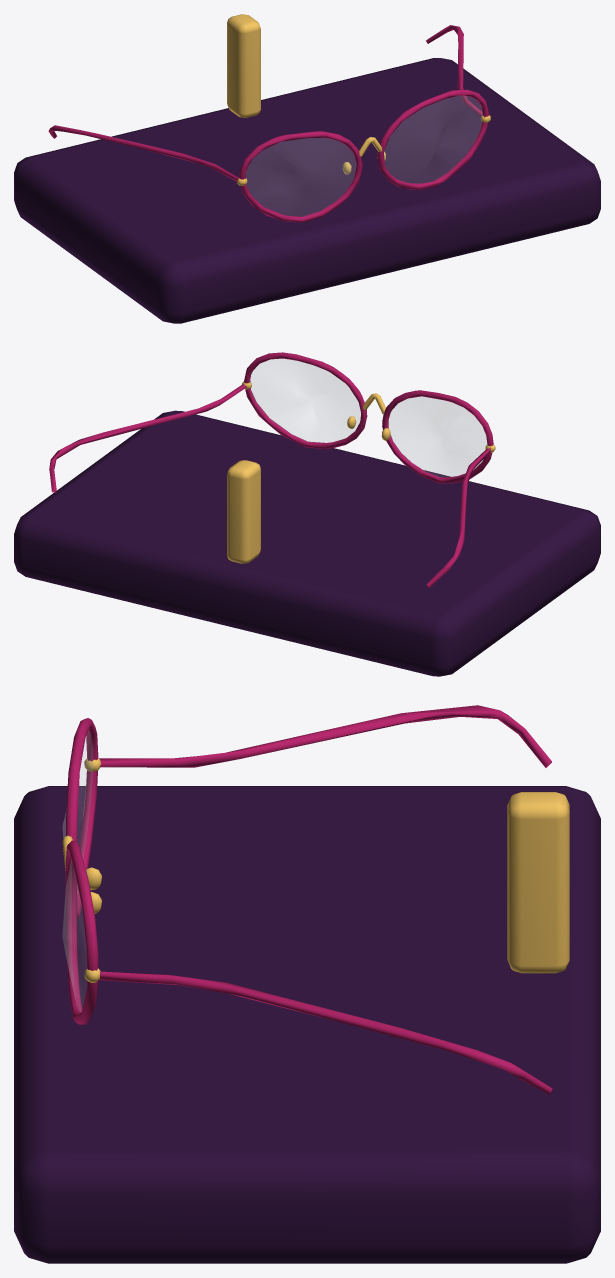
File: rain.acc.cat-eye-frames.lod1.glb
3 views of the same model, one above another, from view 1: azimuth 30°, elevation 25°; view 2: azimuth 150°, elevation 25°; view 3: azimuth 270°, elevation 25° (orthographic). The views are drawn at different scales.
Parts seen in each view (by area): view 1: jewellery_pad, Fit.Item.cat-eye-frames.Lens0, Fit.Item.cat-eye-frames.Lens1, jewellery_support, Fit.Item.cat-eye-frames.Rim0, Fit.Item.cat-eye-frames.Rim1, Fit.Item.cat-eye-frames.Temple0, Fit.Item.cat-eye-frames.Temple1; view 2: jewellery_pad, Fit.Item.cat-eye-frames.Lens1, Fit.Item.cat-eye-frames.Lens0, jewellery_support, Fit.Item.cat-eye-frames.Rim1, Fit.Item.cat-eye-frames.Rim0, Fit.Item.cat-eye-frames.Temple1, Fit.Item.cat-eye-frames.Temple0; view 3: jewellery_pad, jewellery_support, Fit.Item.cat-eye-frames.Temple0, Fit.Item.cat-eye-frames.Temple1, Fit.Item.cat-eye-frames.Rim1, Fit.Item.cat-eye-frames.Rim0, Fit.Item.cat-eye-frames.Lens1, Fit.Item.cat-eye-frames.Lens0.
Part boxes in pixels (left/top/right/bottom): jewellery_pad: left=14, top=58, right=600, bottom=323; Fit.Item.cat-eye-frames.Lens0: left=246, top=138, right=356, bottom=216; Fit.Item.cat-eye-frames.Lens1: left=384, top=96, right=482, bottom=183; jewellery_support: left=227, top=14, right=260, bottom=117; Fit.Item.cat-eye-frames.Rim0: left=239, top=131, right=362, bottom=222; Fit.Item.cat-eye-frames.Rim1: left=377, top=89, right=488, bottom=189; Fit.Item.cat-eye-frames.Temple0: left=48, top=125, right=238, bottom=181; Fit.Item.cat-eye-frames.Temple1: left=426, top=25, right=482, bottom=116; jewellery_pad: left=14, top=410, right=600, bottom=676; Fit.Item.cat-eye-frames.Lens1: left=250, top=359, right=360, bottom=442; Fit.Item.cat-eye-frames.Lens0: left=388, top=397, right=486, bottom=476; jewellery_support: left=227, top=460, right=260, bottom=563; Fit.Item.cat-eye-frames.Rim1: left=244, top=352, right=367, bottom=449; Fit.Item.cat-eye-frames.Rim0: left=382, top=390, right=493, bottom=483; Fit.Item.cat-eye-frames.Temple1: left=49, top=384, right=246, bottom=492; Fit.Item.cat-eye-frames.Temple0: left=426, top=448, right=490, bottom=587; jewellery_pad: left=14, top=786, right=600, bottom=1263; jewellery_support: left=507, top=792, right=569, bottom=973; Fit.Item.cat-eye-frames.Temple0: left=99, top=705, right=551, bottom=767; Fit.Item.cat-eye-frames.Temple1: left=98, top=971, right=552, bottom=1094; Fit.Item.cat-eye-frames.Rim1: left=65, top=840, right=98, bottom=1024; Fit.Item.cat-eye-frames.Rim0: left=66, top=718, right=98, bottom=919; Fit.Item.cat-eye-frames.Lens1: left=62, top=860, right=86, bottom=1012; Fit.Item.cat-eye-frames.Lens0: left=63, top=731, right=92, bottom=894.
Size of the model in its own units: 0.68 by 0.2303 by 0.4308.
